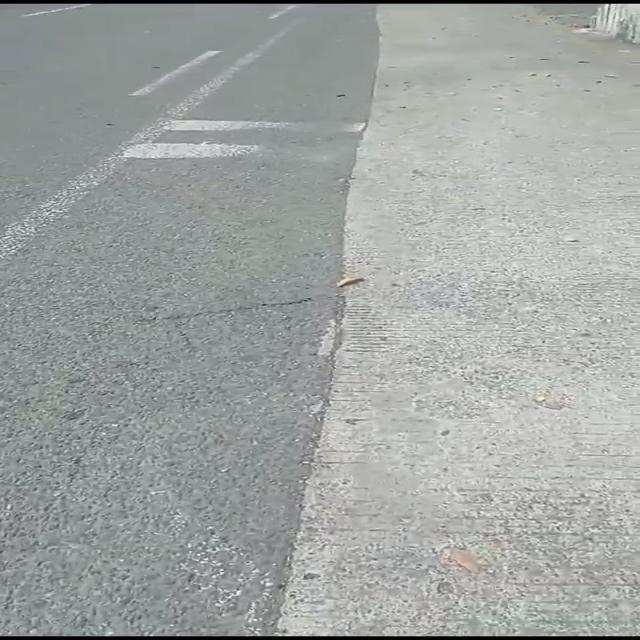Sambungan: (273, 0, 640, 640)
